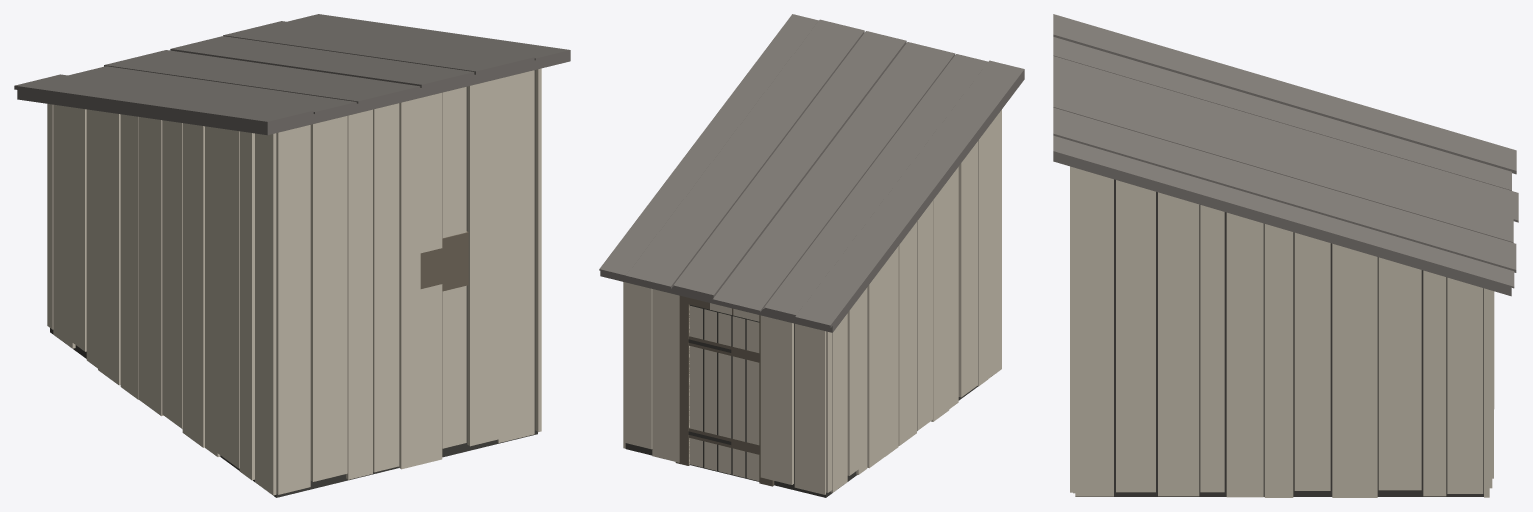
The model's file is recon_1835_west_012__inferred_1835.glb.
3 renders of one model, left to right at view 1: azimuth 30°, elevation 25°; view 2: azimuth 150°, elevation 25°; view 3: azimuth 270°, elevation 25°, orthographic. The views are drawn at different scales.
Parts seen in each view (by area): view 1: recon_1835_west_012__inferred_1835; view 2: recon_1835_west_012__inferred_1835; view 3: recon_1835_west_012__inferred_1835.
Part boxes in pixels (x1,y1,x2,y2): recon_1835_west_012__inferred_1835: (14,14,570,497); recon_1835_west_012__inferred_1835: (599,14,1024,497); recon_1835_west_012__inferred_1835: (1053,14,1518,497).
Bounding box in the file's own units: 2.82 × 3.48 × 4.11.
